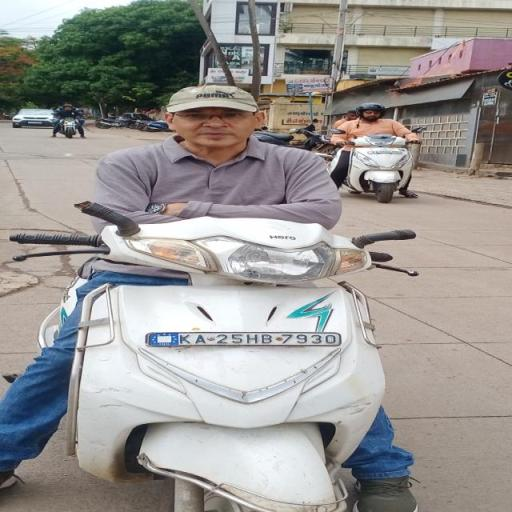bike: (19, 78, 436, 512)
numberplate: (141, 328, 341, 350)
withouthelmet: (170, 87, 262, 146)
